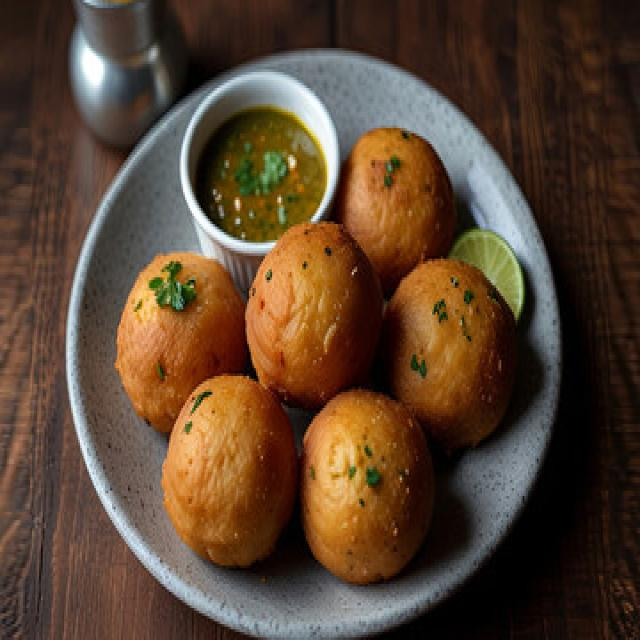BONDA: (114, 127, 515, 579)
GREEN CHUTNEY: (196, 112, 327, 241)
